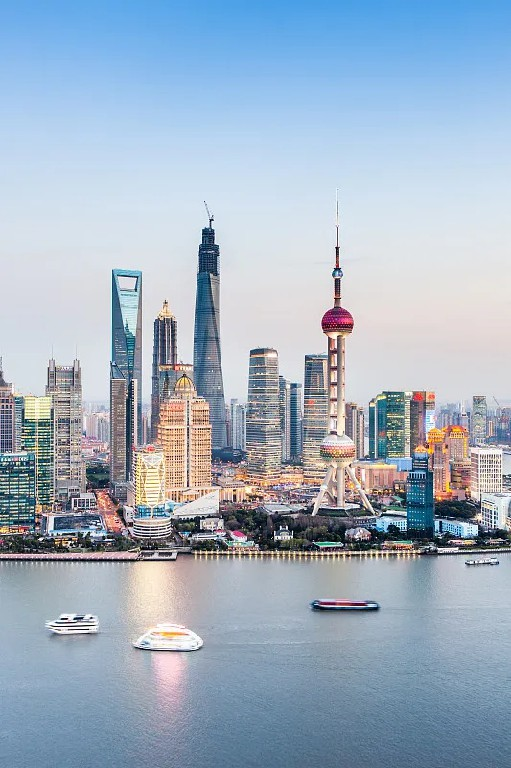Oriental: (311, 194, 376, 516)
